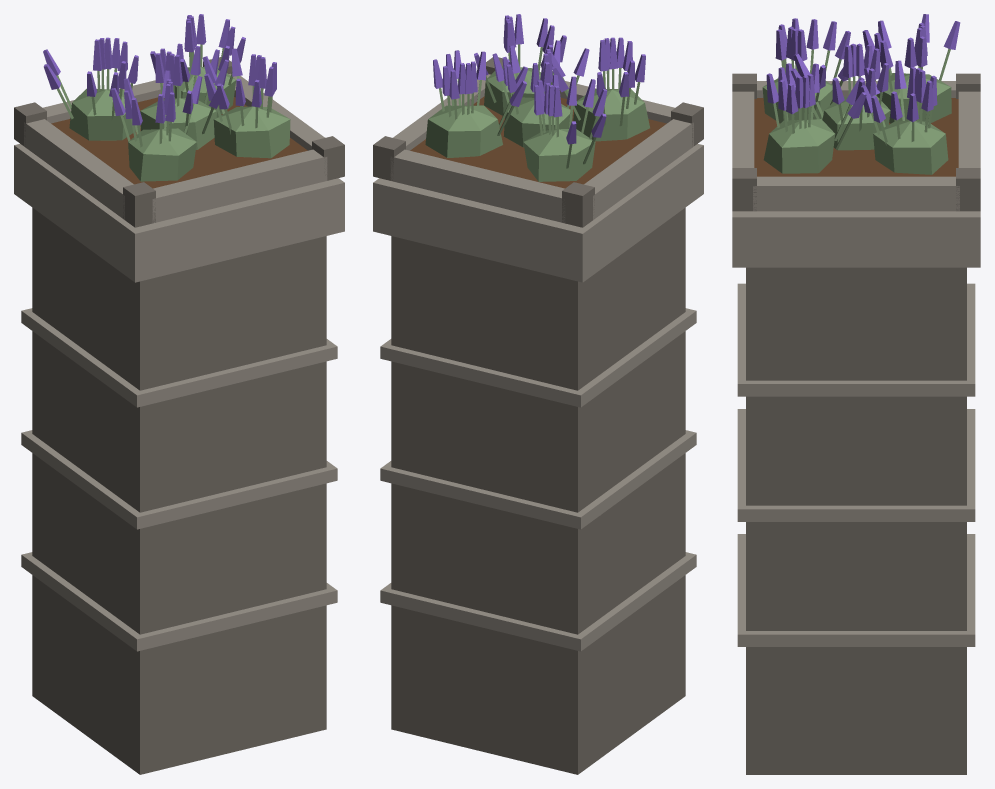
Rendered from decor_lavender.glb.
3 renders of one model, left to right at view 1: azimuth 30°, elevation 25°; view 2: azimuth 150°, elevation 25°; view 3: azimuth 270°, elevation 25°, orthographic. The views are drawn at different scales.
Visible parts, largest first — view 1: decor_lavender; view 2: decor_lavender; view 3: decor_lavender.
Part boxes in pixels (bbox=[...]): decor_lavender: bbox=[14, 14, 344, 774]; decor_lavender: bbox=[373, 14, 703, 774]; decor_lavender: bbox=[732, 14, 980, 774].
Bounding box in the file's own units: 1.8 × 5.42 × 1.8.
